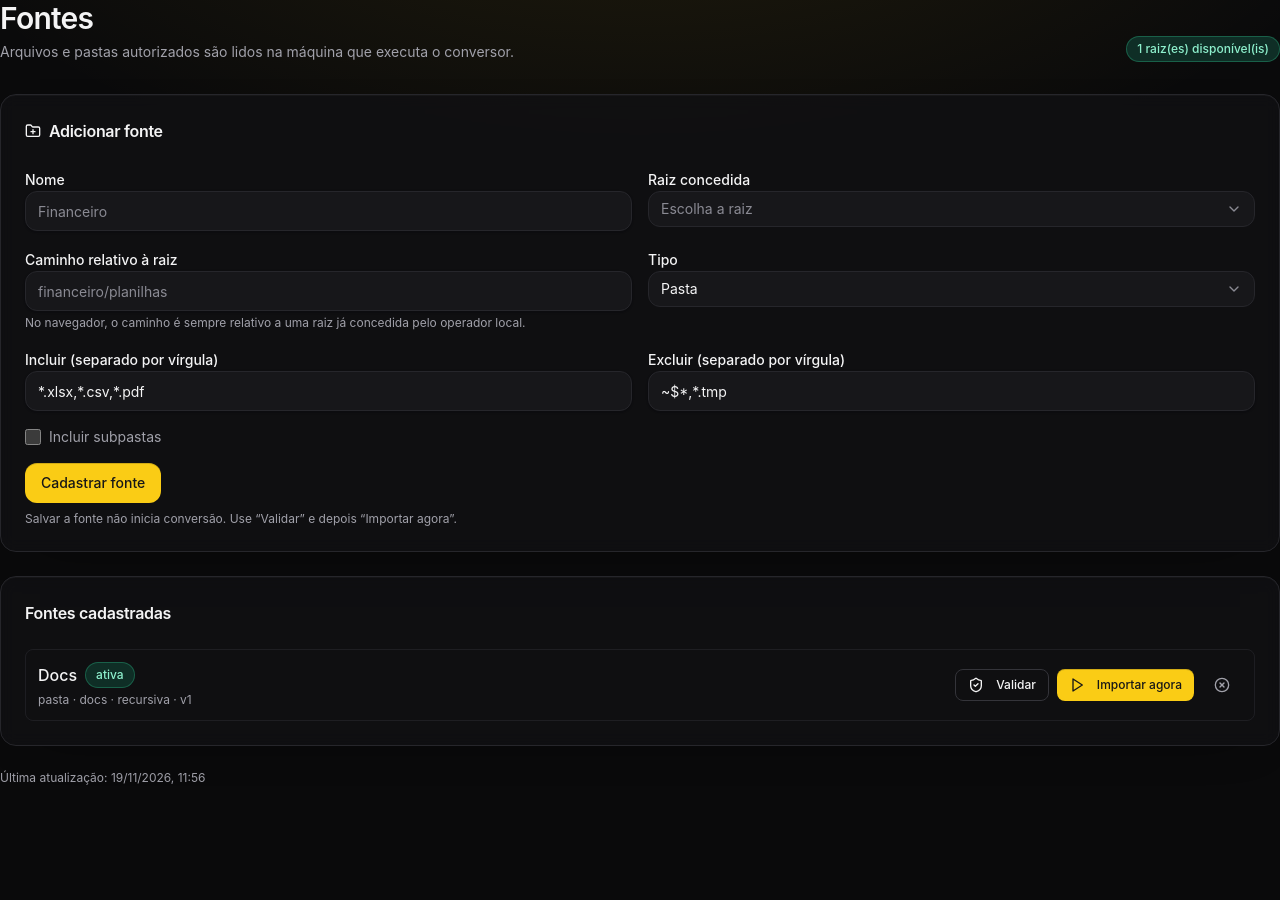
Test: SourcesPage native picker and imports › shows a partial import result with the failing file and its error code
Click the button "Importar agora" at (1125, 685), box [1057,669,1194,701]
(page scrolled)
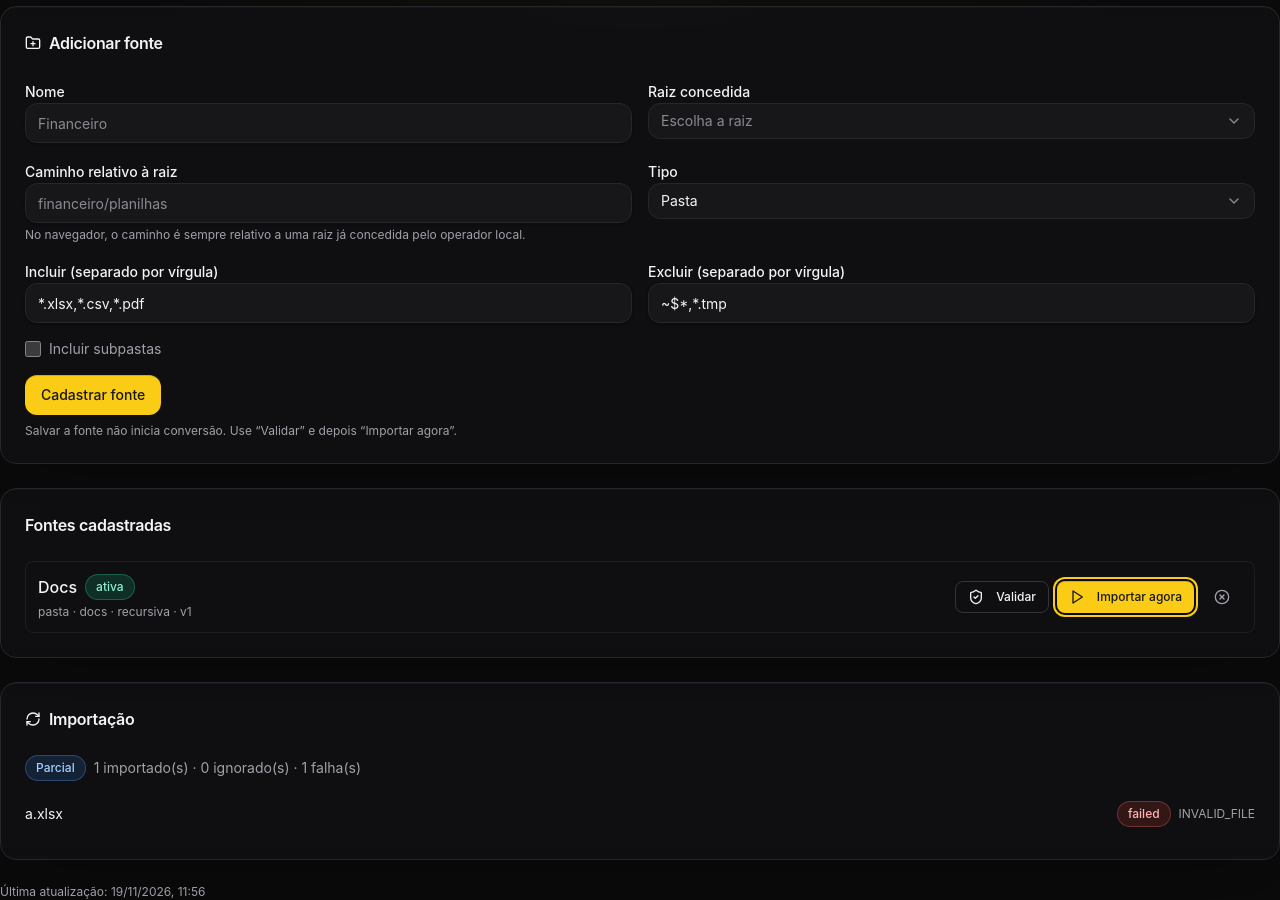
Check: the text "Parcial" is shown, box [25,755,86,781]
Check: the text "1 importado(s) · 0 ignorado(s) · 1 falha(s)" is shown, box [94,758,361,778]
Check: the text "a.xlsx" is shown, box [25,804,63,824]
